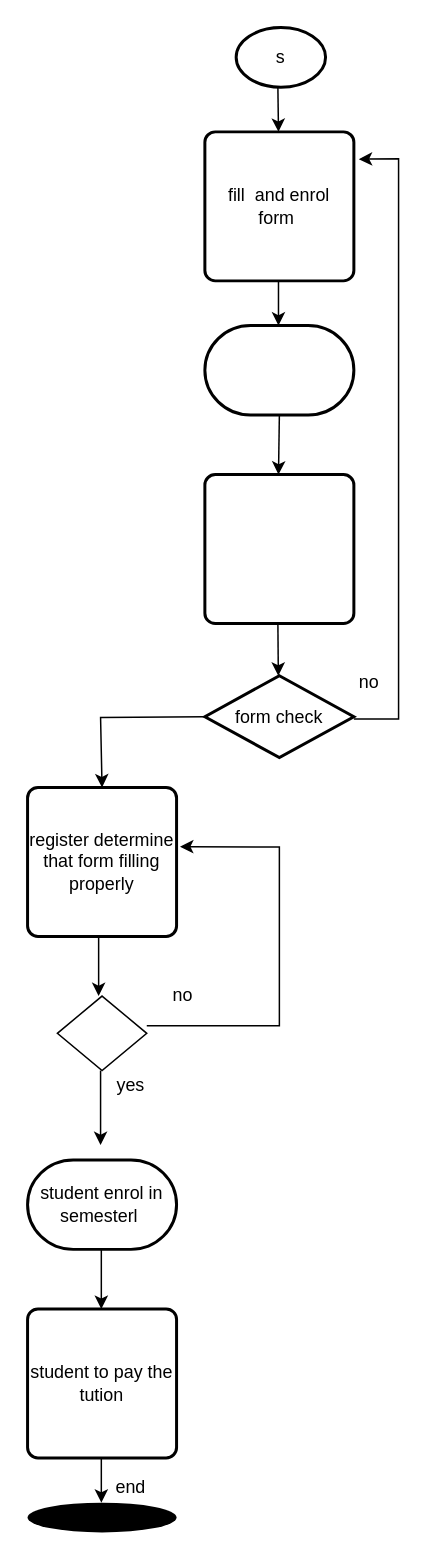
This 437x1557 diagram has some shape labels left out. The shapes that lost their labels are listed below. From the top down, each one's centre as x and y in pixels, then its label:
the point at 279,369: hand and fill out enrol form
the point at 279,548: inspect the form
the point at 101,1033: check
